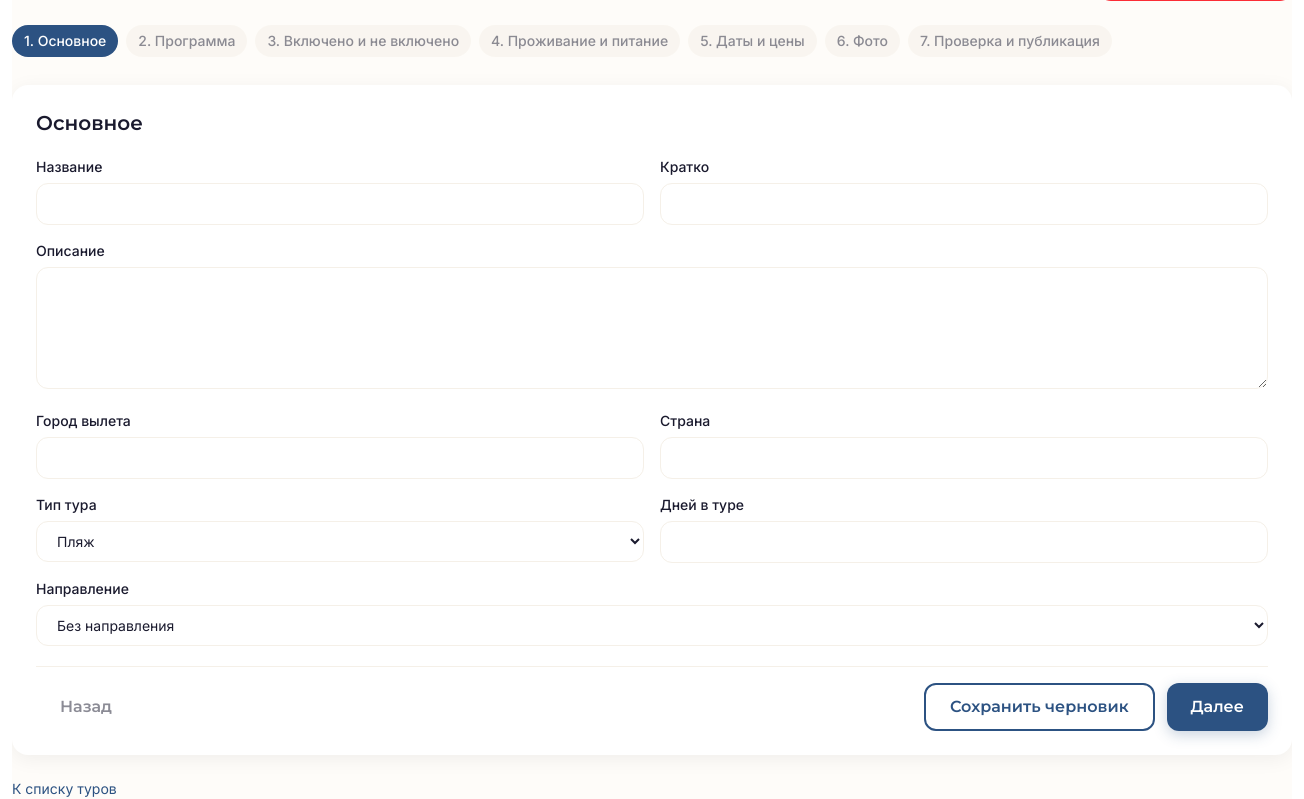
TourWizard › explains 412 and 428 when a step is saved with a bad version
The width and height of the screenshot is (1304, 799).
(page scrolled)
Click the button "Сохранить черновик" at (1039, 707), box 924,683 -> 1155,731
(page scrolled)
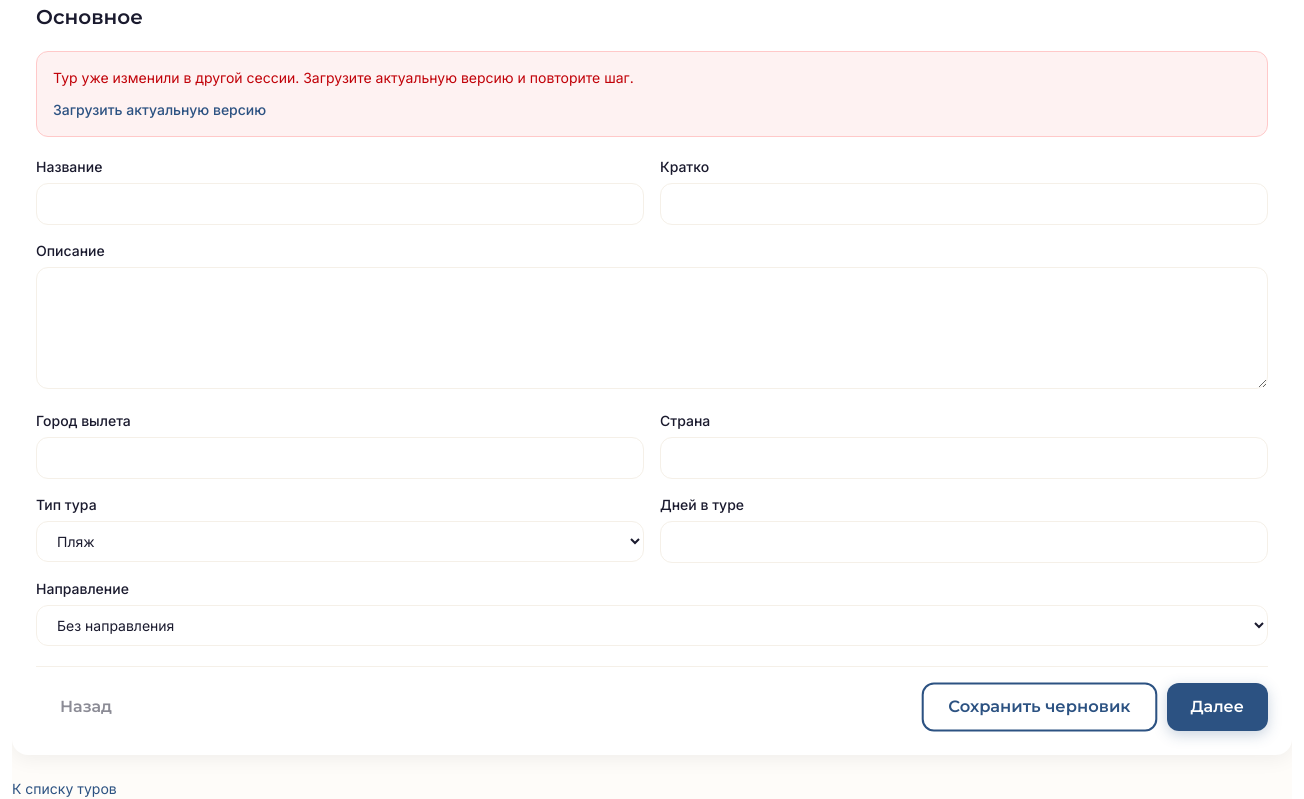
Now the message shows "актуальную версию", box 53,69 -> 634,86
Click the button "Сохранить черновик" at (1039, 707), box 922,682 -> 1157,732
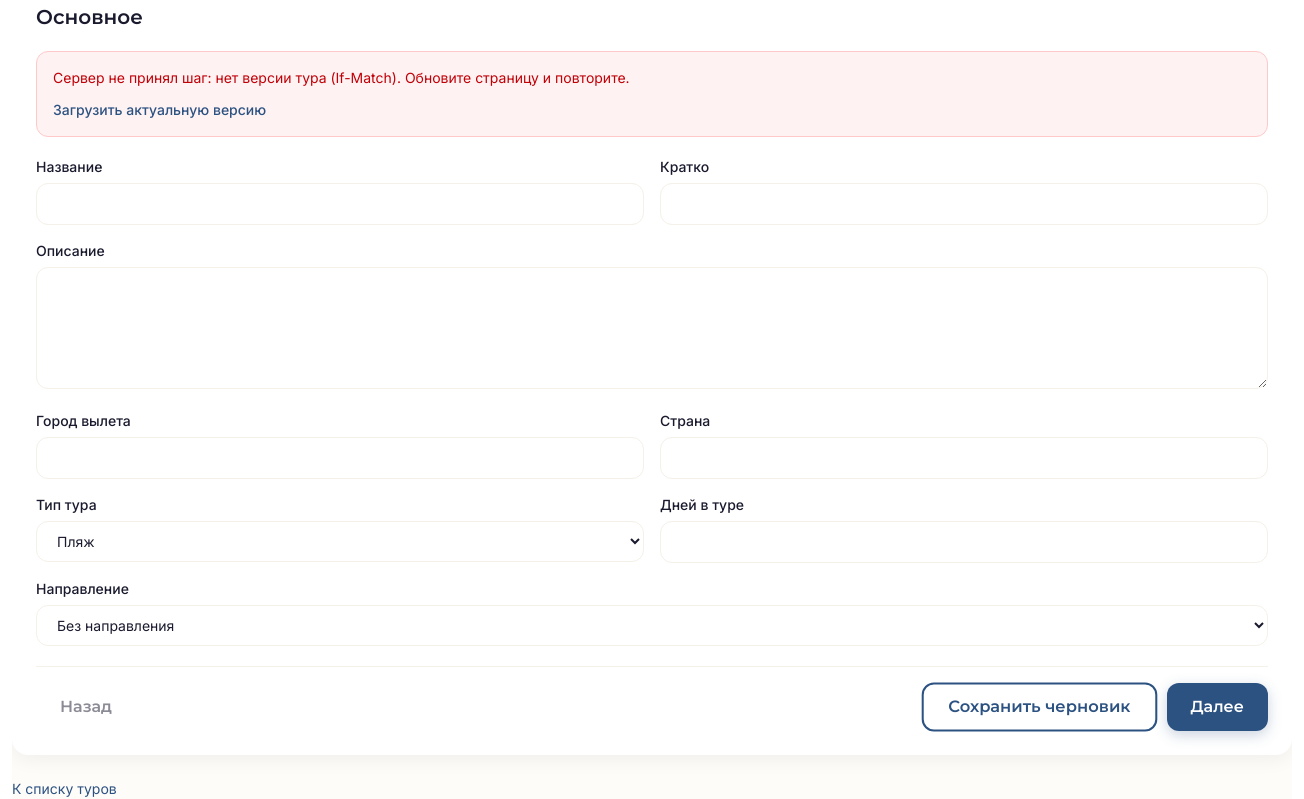
Now the message shows "If-Match", box 53,69 -> 630,86
